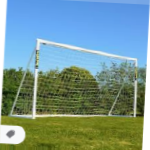goals: (9, 37, 140, 124)
